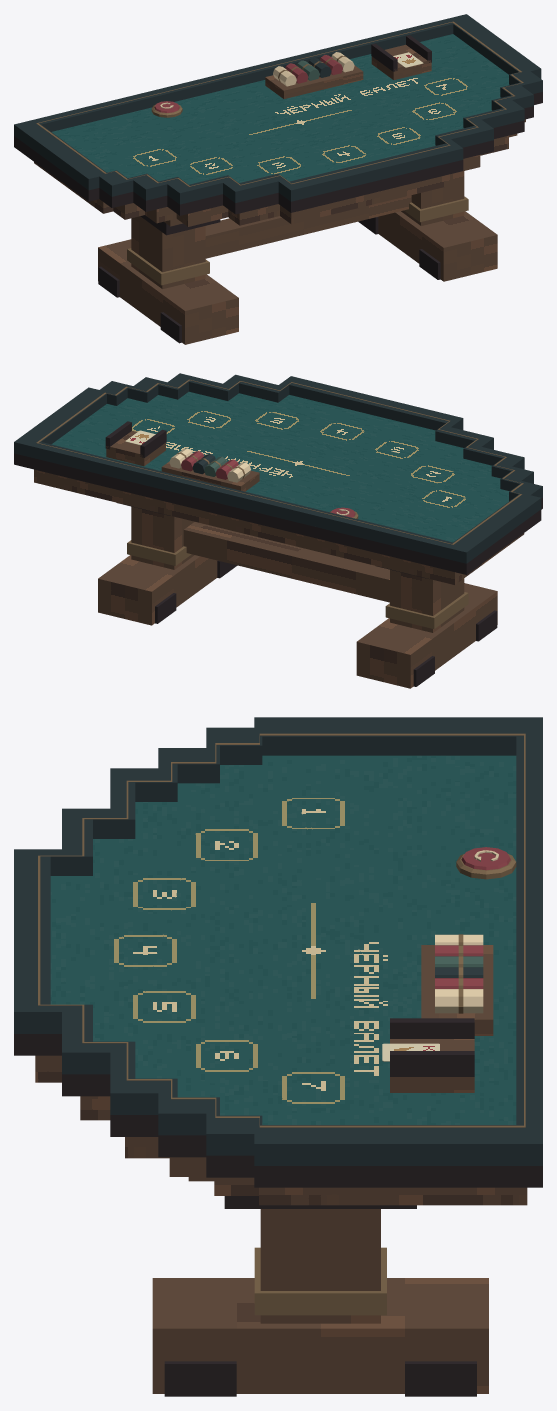
File: black-jack.glb
The picture shows the model from 3 angles, top to bottom: view 1: azimuth 30°, elevation 25°; view 2: azimuth 150°, elevation 25°; view 3: azimuth 270°, elevation 25°; orthographic projection. The views are drawn at different scales.
Parts seen in each view (by area): view 1: Cloth playing surface, Armrest, Square outer rail, Trestle foot, Trestle foot.001, Timber apron, Stretcher, Square column, Brass inset, Dealer tray, Square column.001, Column collar (+7 smaller); view 2: Cloth playing surface, Armrest, Stretcher, Square outer rail, Trestle foot, Timber apron, Trestle foot.001, Square column, Square column.001, Brass inset, Column collar, Dealer shoe (+6 smaller); view 3: Cloth playing surface, Armrest, Trestle foot.001, Square outer rail, Square column.001, Timber apron, Brass inset, Column collar.001, Foot shoe.002, Foot shoe.003, Dealer tray, Shoe cheek.001 (+5 smaller).
Boxes of the visible parts, left/top/right/bottom form: Cloth playing surface: left=52, top=34, right=509, bottom=184; Armrest: left=14, top=14, right=542, bottom=204; Square outer rail: left=14, top=92, right=542, bottom=215; Trestle foot: left=98, top=239, right=238, bottom=344; Trestle foot.001: left=378, top=211, right=497, bottom=281; Timber apron: left=34, top=119, right=525, bottom=226; Stretcher: left=205, top=195, right=411, bottom=258; Square column: left=131, top=216, right=205, bottom=289; Brass inset: left=36, top=21, right=523, bottom=186; Dealer tray: left=265, top=65, right=363, bottom=98; Square column.001: left=401, top=171, right=464, bottom=225; Column collar: left=127, top=248, right=209, bottom=285; Cloth playing surface: left=51, top=391, right=509, bottom=542; Armrest: left=14, top=373, right=542, bottom=563; Stretcher: left=183, top=522, right=389, bottom=602; Square outer rail: left=14, top=449, right=542, bottom=574; Trestle foot: left=356, top=583, right=497, bottom=688; Timber apron: left=34, top=469, right=524, bottom=584; Trestle foot.001: left=98, top=555, right=217, bottom=625; Square column: left=390, top=569, right=464, bottom=632; Square column.001: left=131, top=506, right=194, bottom=569; Brass inset: left=36, top=379, right=523, bottom=544; Column collar: left=385, top=592, right=468, bottom=628; Dealer shoe: left=106, top=431, right=165, bottom=466; Cloth playing surface: left=50, top=755, right=516, bottom=1124; Armrest: left=14, top=717, right=542, bottom=1165; Trestle foot.001: left=152, top=1278, right=488, bottom=1393; Square outer rail: left=14, top=1034, right=542, bottom=1187; Square column.001: left=260, top=1209, right=380, bottom=1323; Timber apron: left=35, top=1055, right=527, bottom=1205; Brass inset: left=38, top=733, right=525, bottom=1127; Column collar.001: left=254, top=1247, right=386, bottom=1315; Foot shoe.002: left=164, top=1361, right=236, bottom=1396; Foot shoe.003: left=405, top=1361, right=476, bottom=1396; Dealer tray: left=421, top=945, right=493, bottom=1035; Shoe cheek.001: left=390, top=1051, right=474, bottom=1076.
Bounding box in the file's own units: 2.62 × 0.9613 × 1.38.
10 materials, 3 textured.
